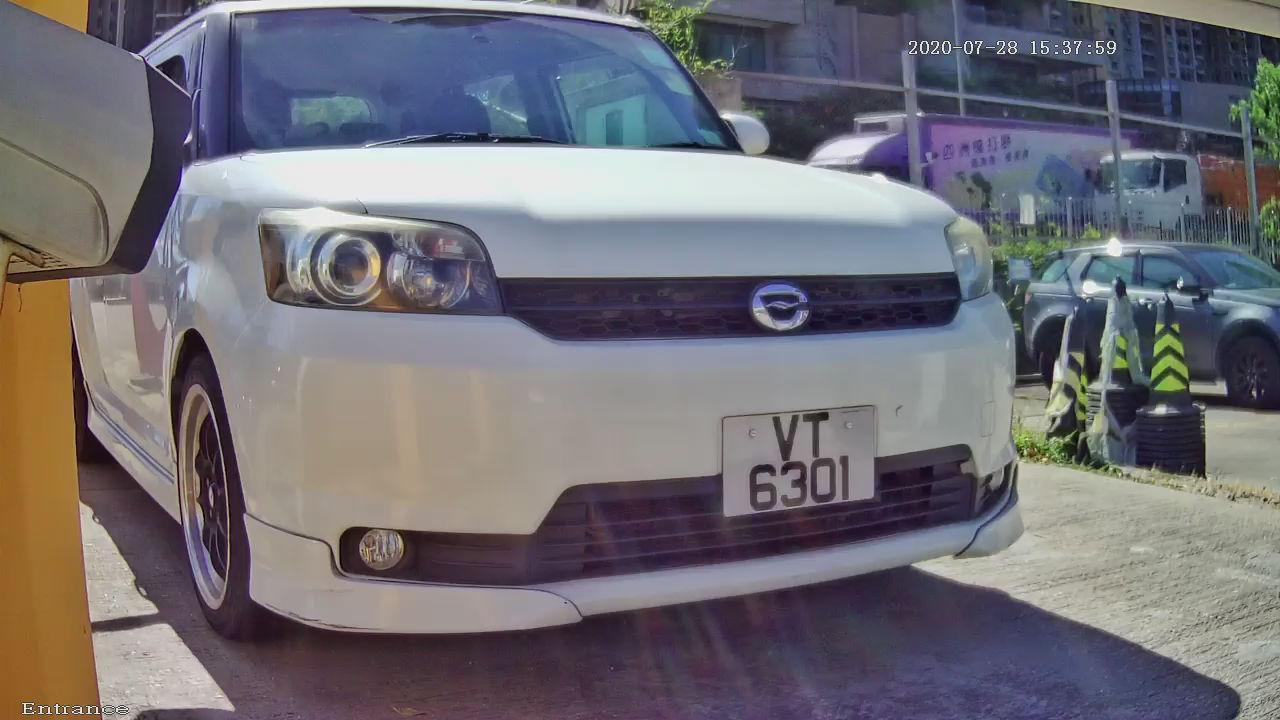privatecar: (87, 14, 1067, 673)
